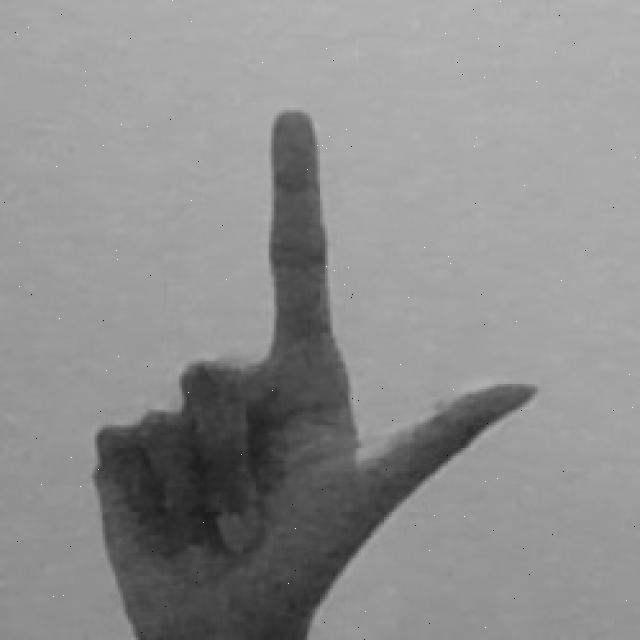L: (82, 102, 550, 640)
